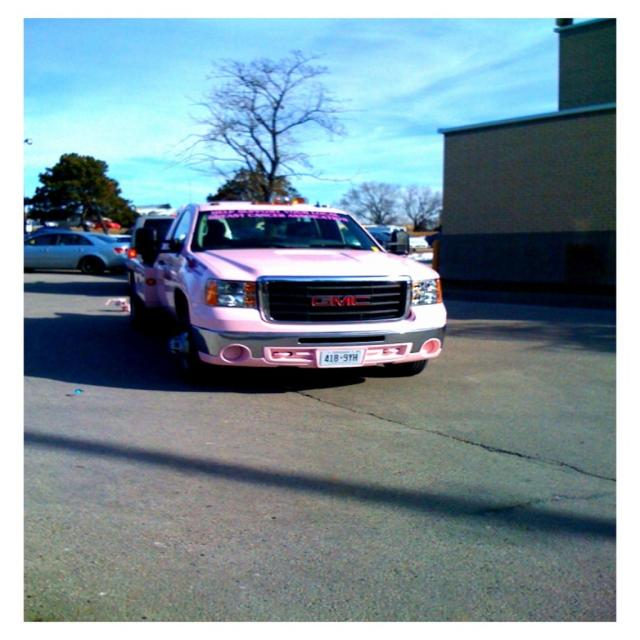car: (127, 194, 445, 376)
